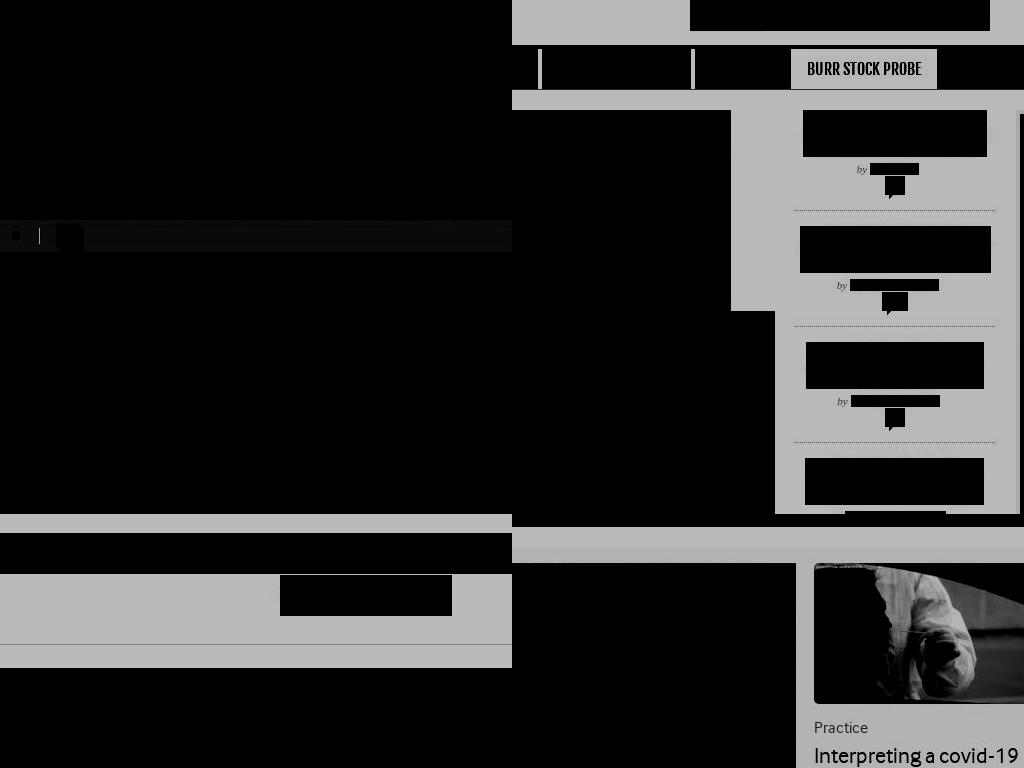button: (512, 563, 796, 768), (512, 311, 775, 514), (690, 0, 990, 31), (280, 575, 452, 616), (279, 436, 485, 468), (542, 49, 691, 89), (44, 436, 224, 468), (795, 49, 933, 89), (695, 49, 791, 89), (937, 49, 1024, 89), (474, 66, 506, 99), (512, 49, 538, 89), (56, 223, 80, 248), (12, 231, 20, 240)
heading: (512, 110, 731, 514), (0, 533, 512, 574), (800, 226, 991, 273), (803, 110, 987, 157), (805, 458, 984, 505), (806, 342, 984, 389), (512, 514, 1024, 527), (814, 742, 1020, 768)
image: (0, 0, 512, 220), (512, 563, 796, 768), (512, 311, 775, 514), (0, 668, 512, 768), (374, 0, 512, 220), (814, 563, 1024, 705), (478, 70, 502, 95), (60, 227, 84, 252)
link: (850, 279, 939, 291), (851, 395, 940, 407), (814, 718, 869, 737), (870, 163, 919, 175), (845, 511, 946, 514)
text: (0, 252, 512, 514), (0, 28, 332, 89), (18, 300, 250, 348), (18, 356, 250, 404), (266, 300, 498, 348), (266, 356, 498, 404), (0, 88, 332, 121), (282, 587, 429, 606), (882, 292, 908, 311), (885, 176, 905, 195), (885, 408, 905, 427)
